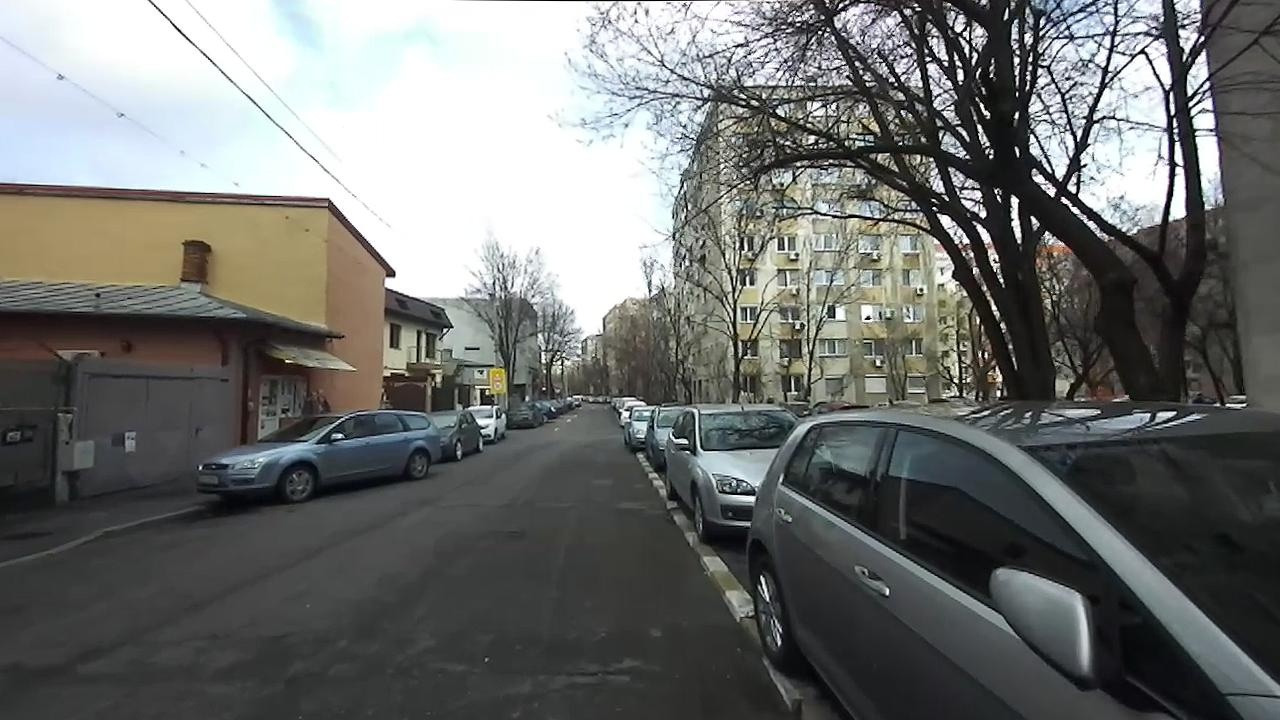pothole: (529, 655, 645, 684), (496, 524, 525, 539)
